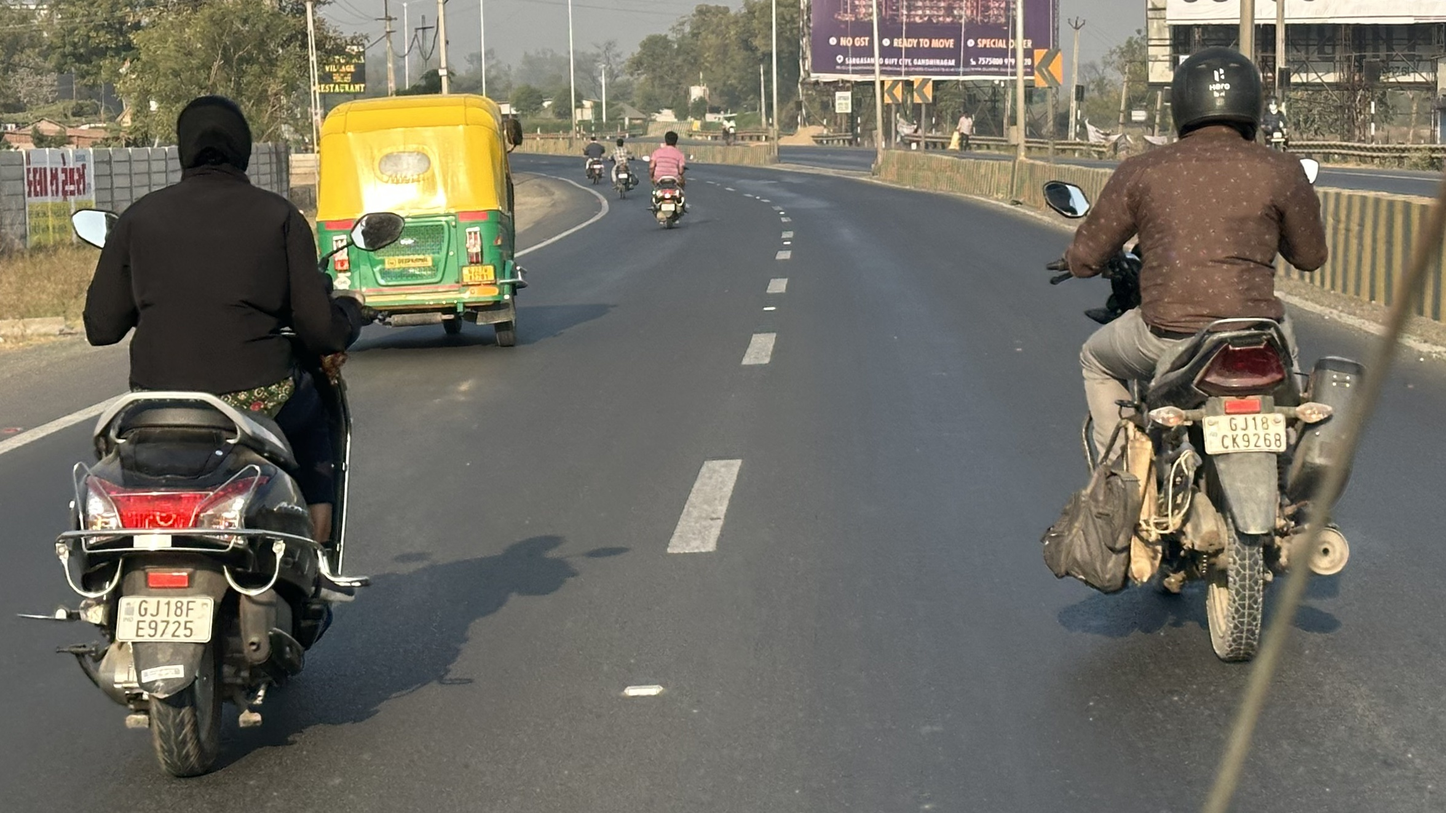BikeWithRider: (15, 85, 382, 787), (1023, 39, 1369, 673), (642, 125, 698, 232), (609, 134, 643, 200), (578, 129, 612, 187)
Helmet: (1155, 40, 1278, 151)
NoHelmet: (159, 87, 269, 194)
